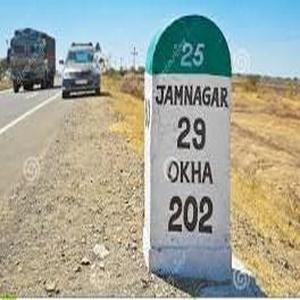kmstone: (142, 9, 236, 278)
